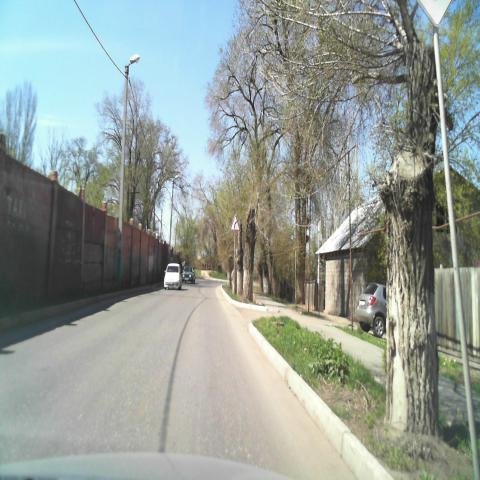1_11: (229, 214, 240, 231)
